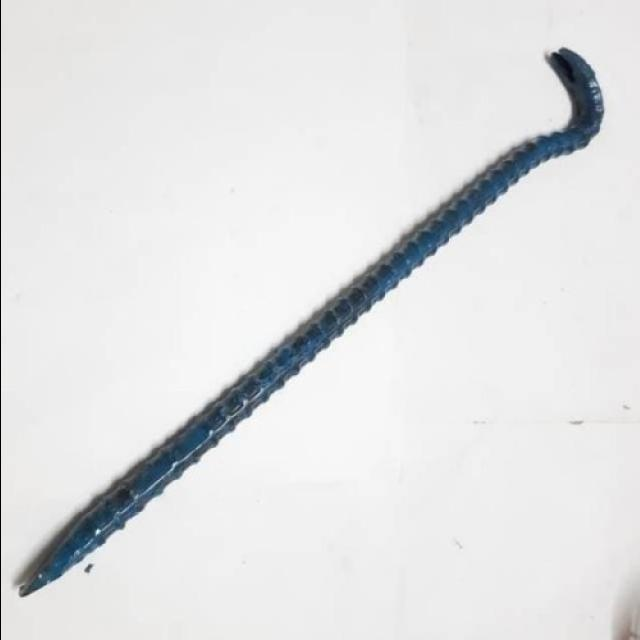Linggis: (16, 50, 606, 603)
